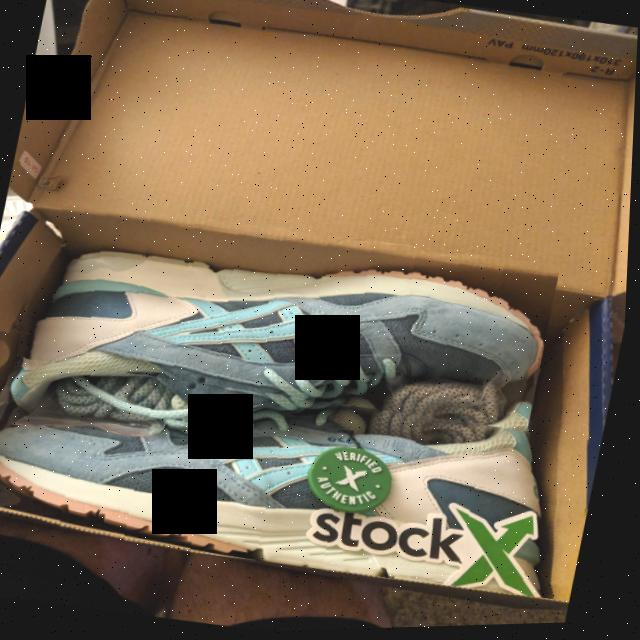shoe: (0, 338, 611, 619), (0, 186, 567, 488)
